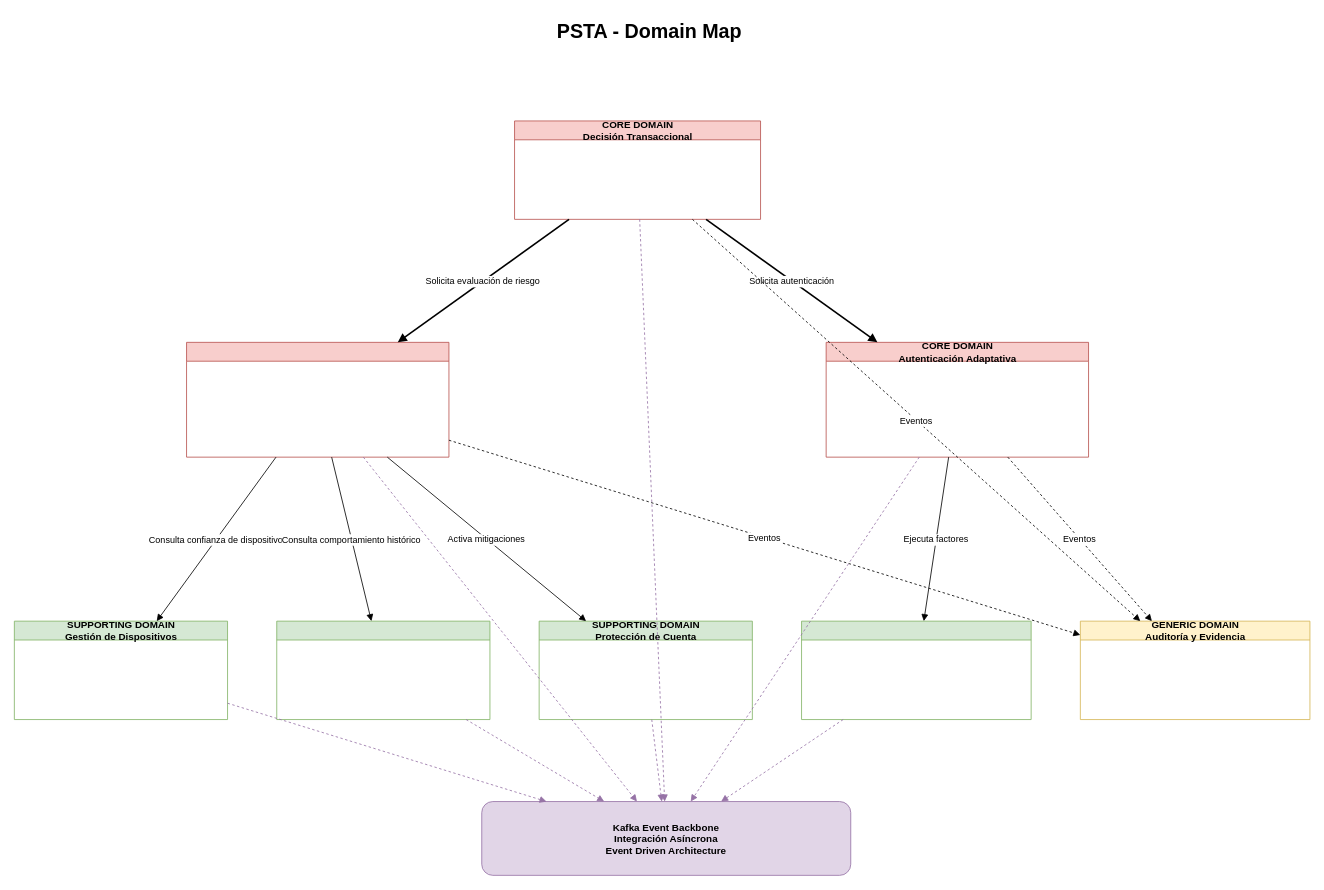
This 1324x890 diagram has some shape labels left out. The shapes that lost their labels are listed below. From the top down, each one's centre as x and y in pixels, then its label:
At point (317, 399): "CORE DOMAIN Monitoreo de Riesgo y Fraude".
At point (383, 670): "SUPPORTING DOMAIN Perfil de Cliente".
At point (916, 670): "SUPPORTING DOMAIN Proveedores de Factores".
